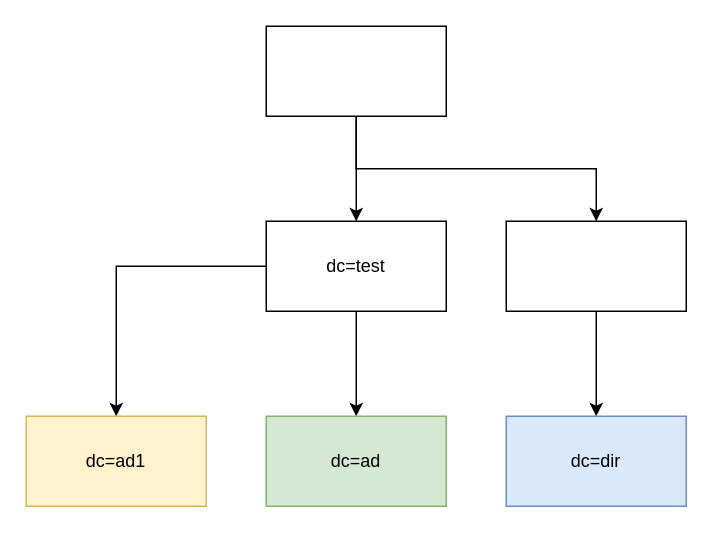
Image size: 713x533. Some labels were removed from this diagram. The shapes that lost their labels are listed below. From the top down, each one's box as (x1, y1, x2, y2) in pixels, then its label:
(265, 25, 446, 116): dc=it
(505, 220, 686, 311): dc=unibo
